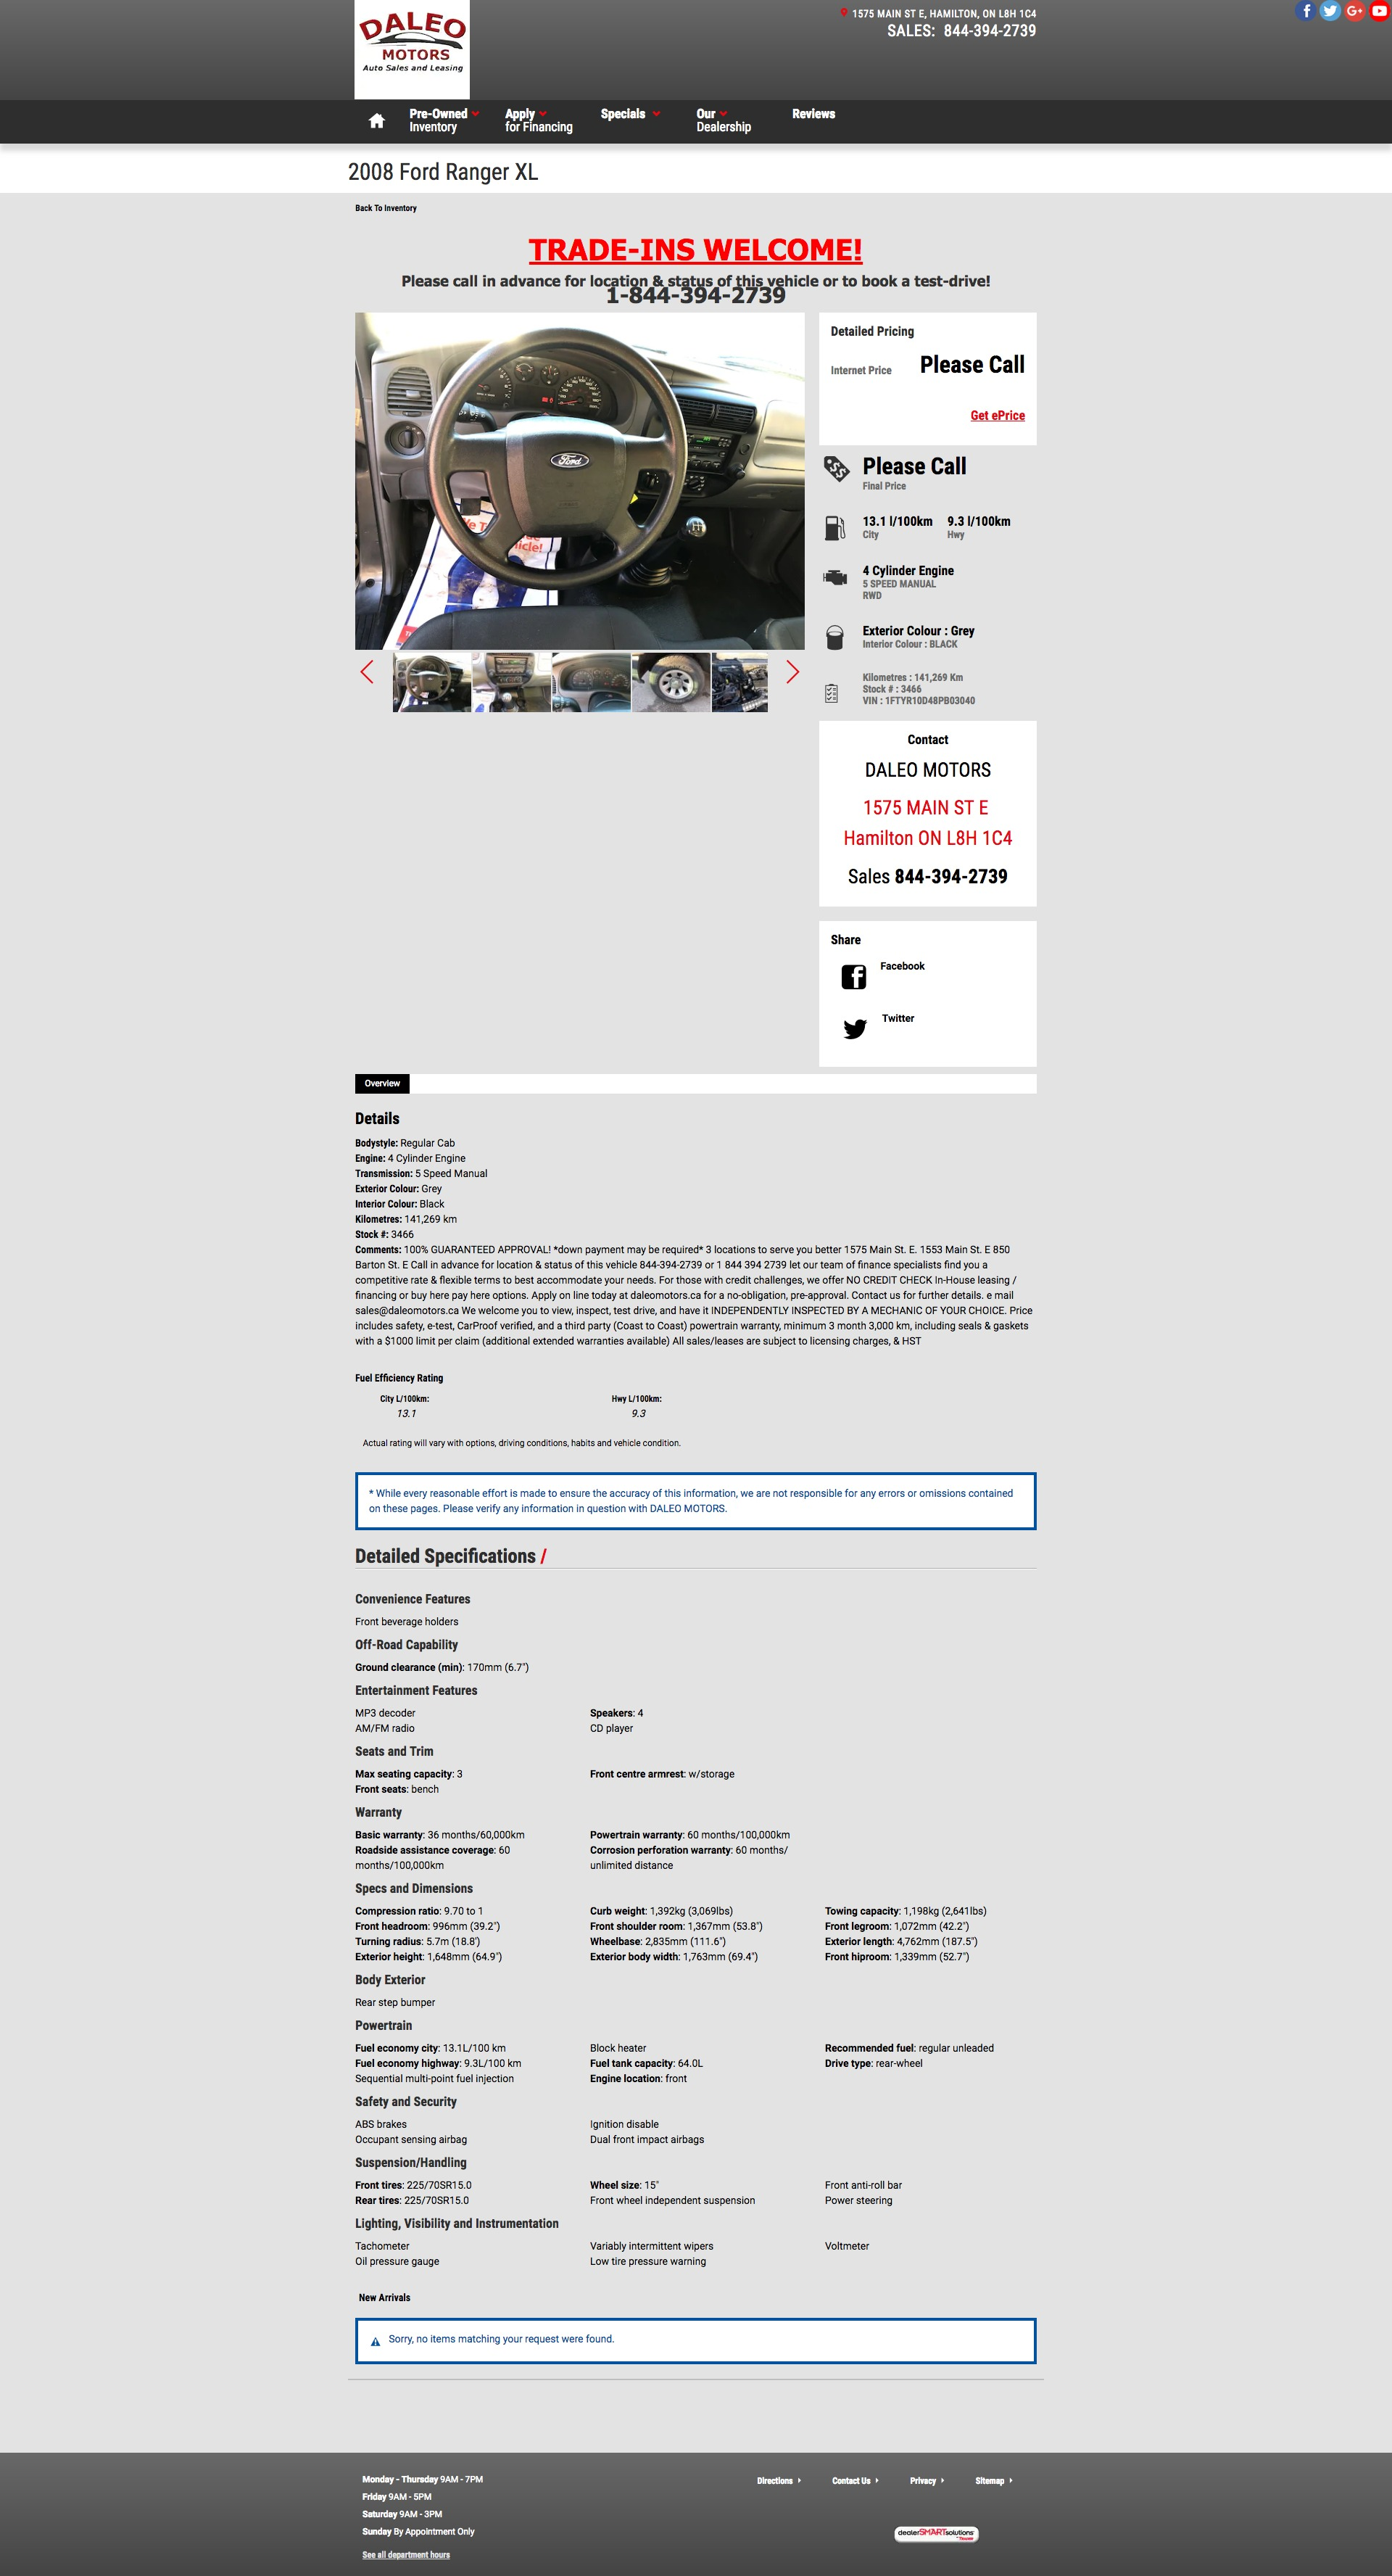car: (787, 660, 801, 684)
